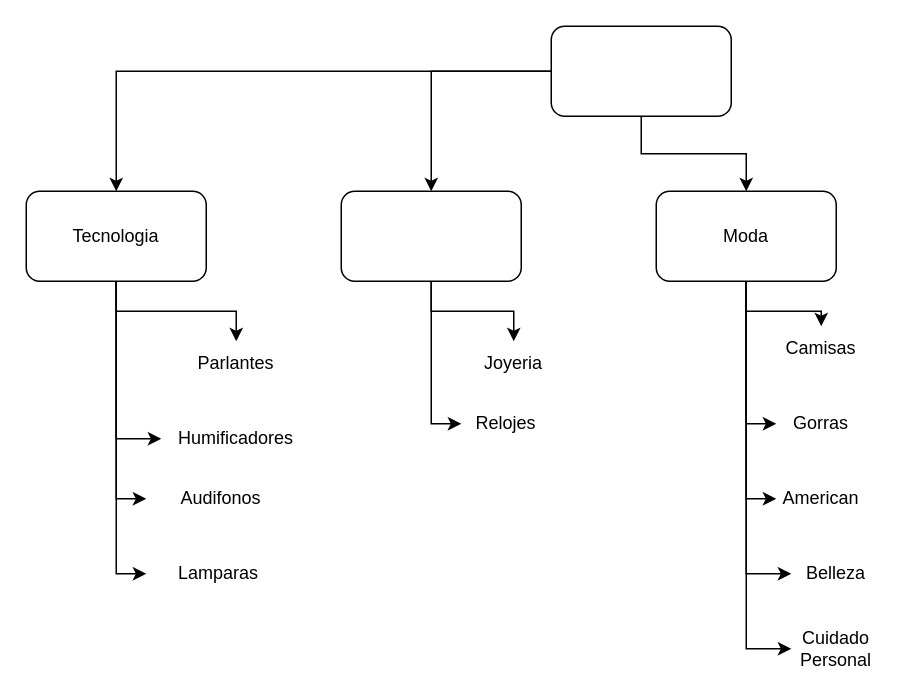
Image size: 908x698. Some labels were removed from this diagram. Here are the shapes that lost their labels. From the top down, the box of each, then its label:
(550, 25, 731, 116): Productos
(340, 190, 521, 281): Accesorios
